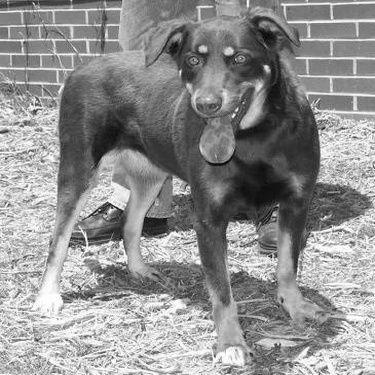dog: (22, 4, 337, 369)
